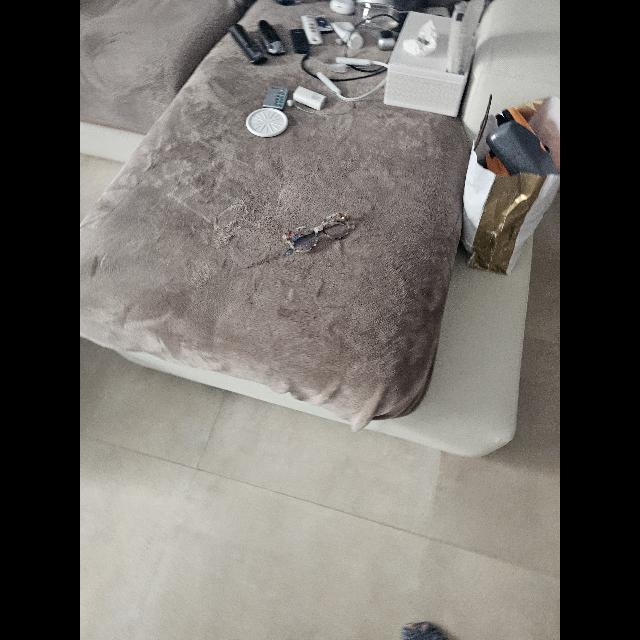glasses: (282, 213, 354, 254)
